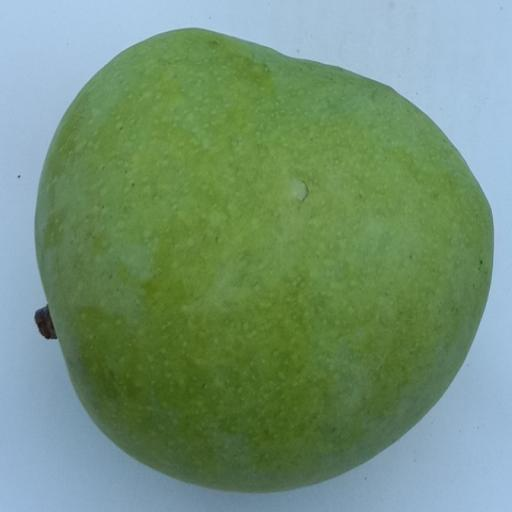mango-unripe: (26, 12, 505, 491)
